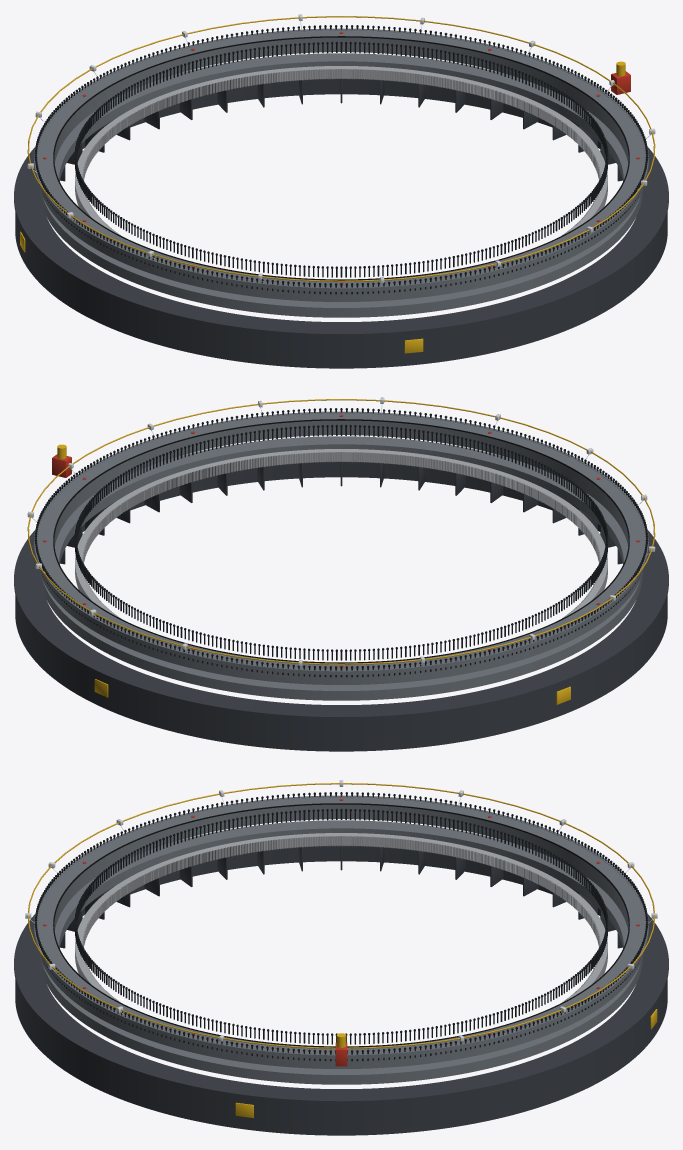
The model's file is slewfixed.glb.
3 renders of one model, top to bottom at view 1: azimuth 30°, elevation 25°; view 2: azimuth 150°, elevation 25°; view 3: azimuth 270°, elevation 25°, orthographic.
Parts seen in each view (by area): view 1: pedestal, outer, lowerRing, bolts, ringgear, grease; view 2: pedestal, outer, lowerRing, bolts, ringgear, grease; view 3: pedestal, outer, lowerRing, bolts, ringgear, grease.
Part boxes in pixels (x1,y1,x2,y2): pedestal: (14,78,668,368); outer: (34,28,648,301); lowerRing: (40,53,642,317); bolts: (34,25,648,294); ringgear: (75,66,607,235); grease: (27,14,655,285); pedestal: (14,461,668,751); outer: (34,411,648,684); lowerRing: (40,436,642,700); bolts: (34,408,648,677); ringgear: (75,449,607,618); grease: (27,397,655,668); pedestal: (14,845,668,1135); outer: (34,795,648,1068); lowerRing: (40,820,642,1084); bolts: (34,792,648,1061); ringgear: (75,833,607,1002); grease: (25,780,657,1066).
Bounding box in the file's own units: 55.5 × 9.2 × 55.2.
